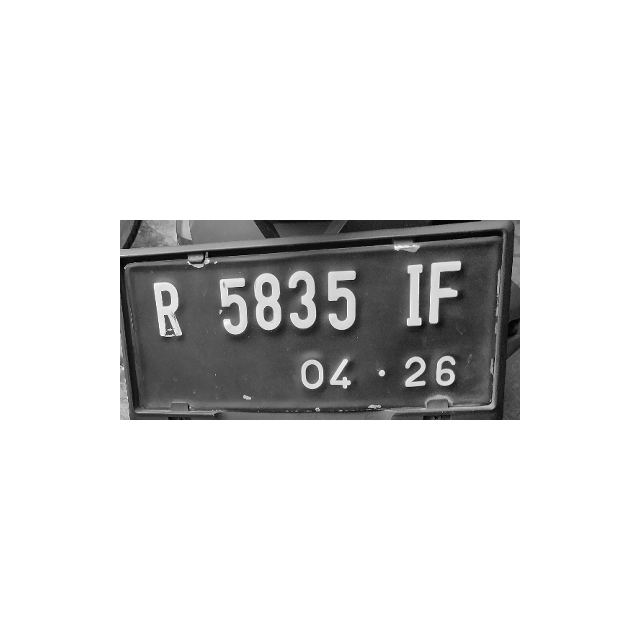contain: (148, 278, 191, 346), (324, 265, 362, 334), (428, 256, 463, 329), (392, 256, 426, 329), (214, 274, 248, 341), (287, 267, 320, 333), (253, 268, 286, 332)
